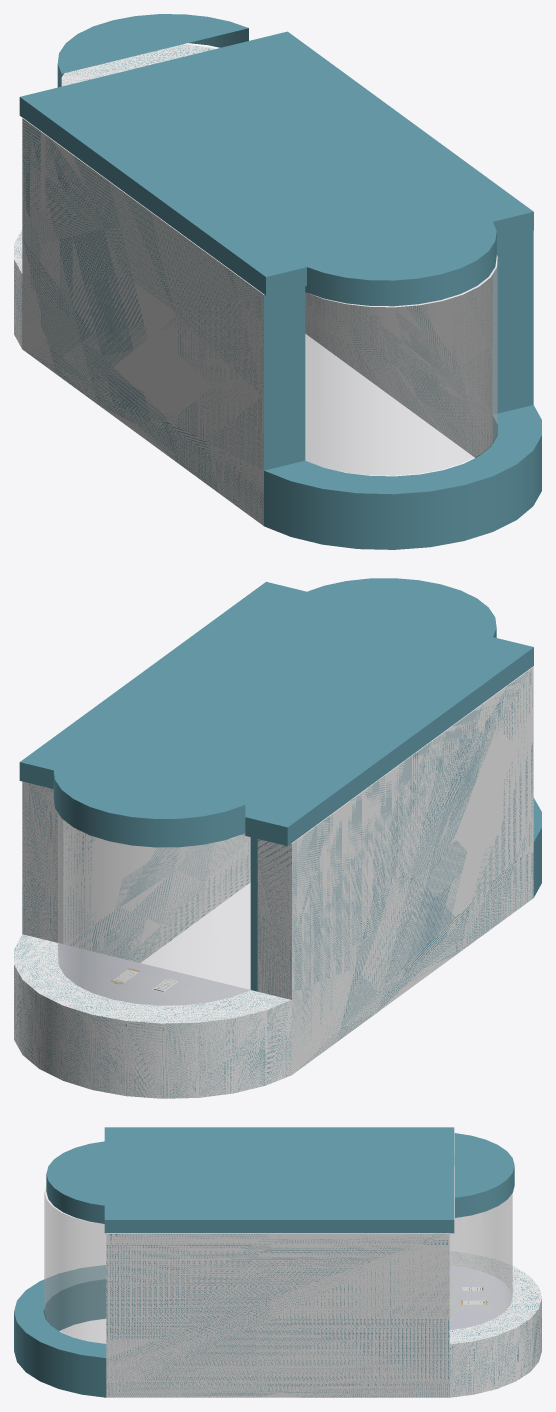
File: desk.dae
3 renders of one model, top to bottom at view 1: azimuth 30°, elevation 25°; view 2: azimuth 150°, elevation 25°; view 3: azimuth 270°, elevation 25°, orthographic. The views are drawn at different scales.
Parts seen in each view (by area): view 1: SketchUp (×5); view 2: SketchUp (×6); view 3: SketchUp (×8).
Part boxes in pixels (left/top/right/bottom): SketchUp (×5): left=14, top=14, right=541, bottom=549; SketchUp (×6): left=14, top=578, right=541, bottom=1098; SketchUp (×8): left=14, top=1127, right=541, bottom=1397.
Bounding box in the file's own units: 181 × 431 × 168.
